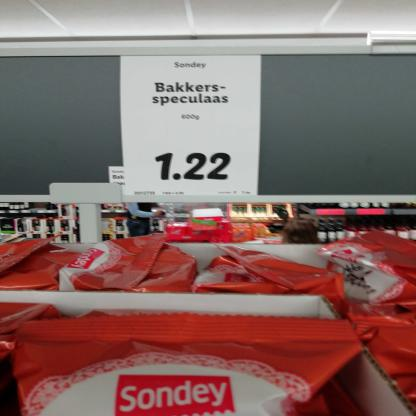prtg: (121, 56, 263, 197), (110, 168, 127, 196)
